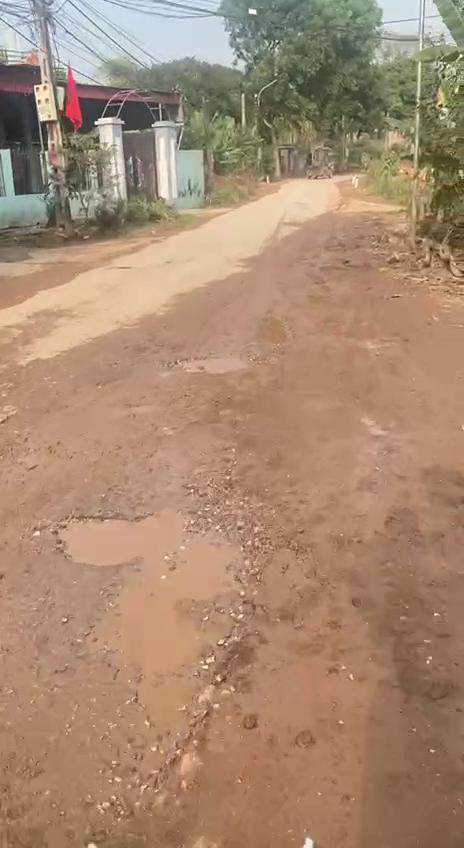pothole: (46, 503, 263, 786), (176, 354, 253, 374), (256, 312, 294, 349)
